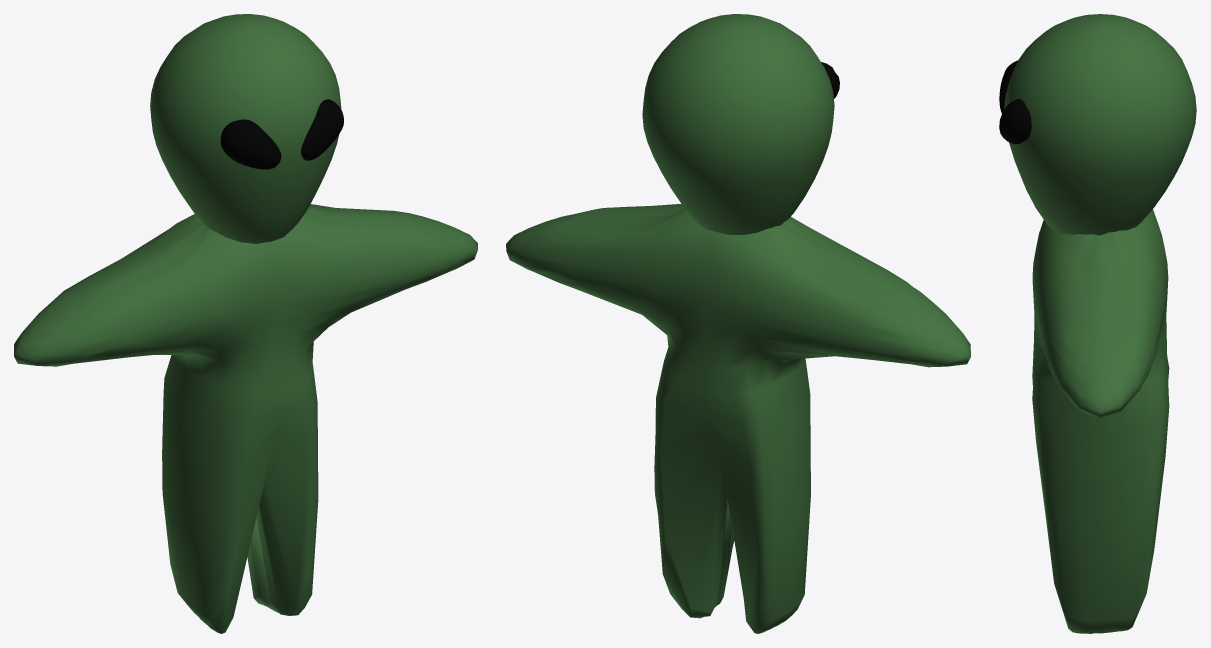
The model's file is Alien.fbx.
3 renders of one model, left to right at view 1: azimuth 30°, elevation 25°; view 2: azimuth 150°, elevation 25°; view 3: azimuth 270°, elevation 25°, orthographic.
Visible parts, largest first — view 1: alien_mesh; view 2: alien_mesh; view 3: alien_mesh.
Part boxes in pixels (left/top/right/bottom): alien_mesh: left=14, top=14, right=477, bottom=633; alien_mesh: left=506, top=14, right=970, bottom=633; alien_mesh: left=999, top=14, right=1196, bottom=633.
Bounding box in the file's own units: 7.88 × 9.66 × 2.91.
